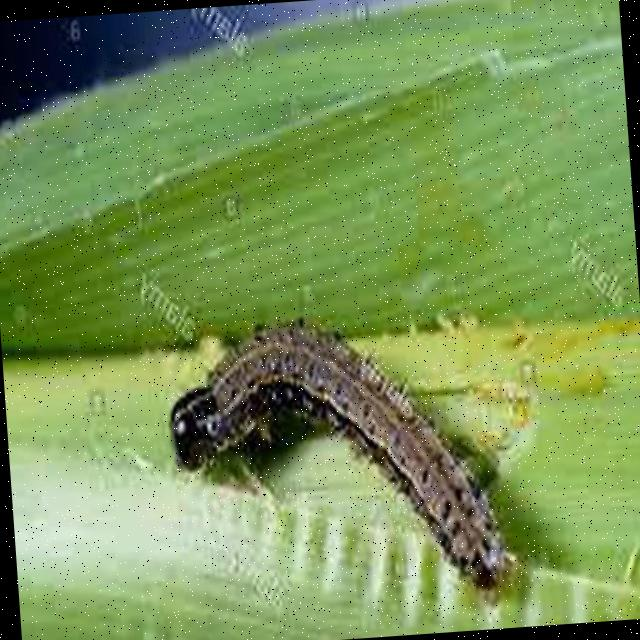worm: (164, 300, 517, 614)
